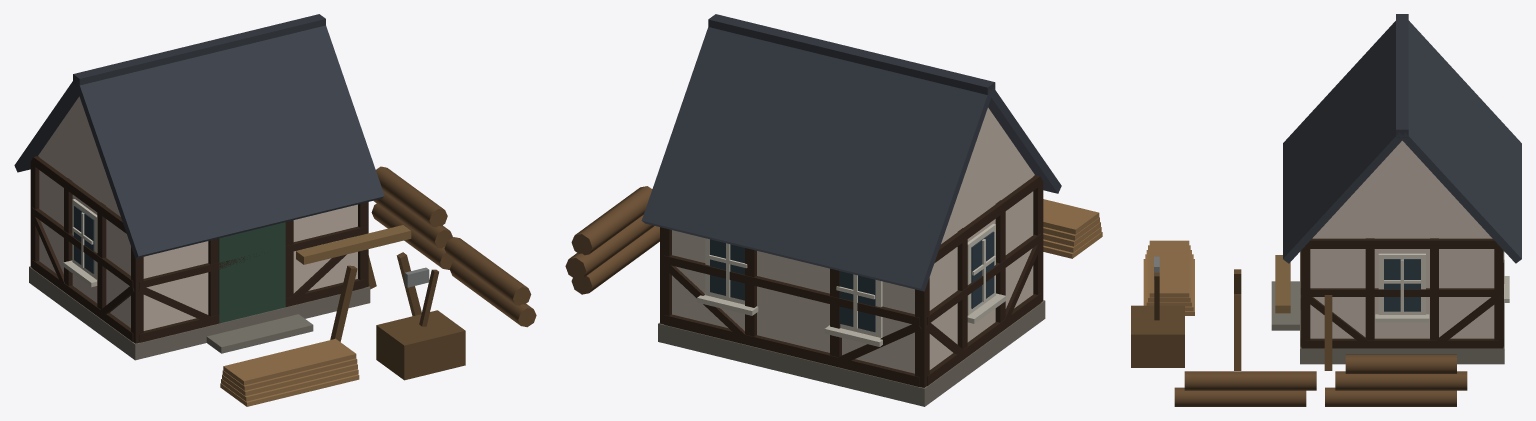
File: procedural_lumber@3.glb
3 views of the same model, side by side, from view 1: azimuth 30°, elevation 25°; view 2: azimuth 150°, elevation 25°; view 3: azimuth 270°, elevation 25° (orthographic). The views are drawn at different scales.
Visible parts, largest first — view 1: part_0; view 2: part_0; view 3: part_0.
Boxes of the visible parts, x1=… form: part_0: x1=14, y1=14, x2=536, y2=406; part_0: x1=565, y1=14, x2=1102, y2=406; part_0: x1=1131, y1=14, x2=1521, y2=406.
Bounding box in the file's own units: 6.69 × 4.61 × 6.88.
